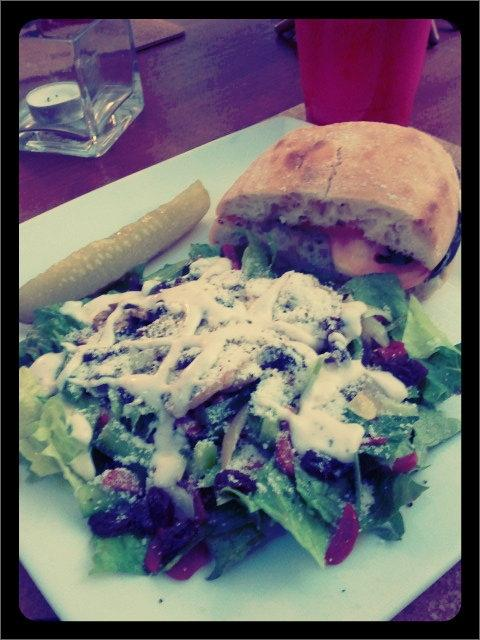lettuce: (219, 453, 348, 569), (30, 391, 106, 493), (402, 294, 462, 406), (19, 302, 90, 360), (341, 272, 408, 318), (412, 405, 460, 466), (88, 535, 152, 576), (19, 365, 57, 425), (232, 230, 268, 278), (180, 243, 222, 276)
tomato: (323, 223, 432, 291), (144, 516, 202, 574), (326, 504, 359, 566), (166, 542, 213, 580), (276, 422, 297, 478), (103, 470, 139, 492), (374, 342, 405, 362), (392, 450, 418, 473), (96, 408, 113, 428)
